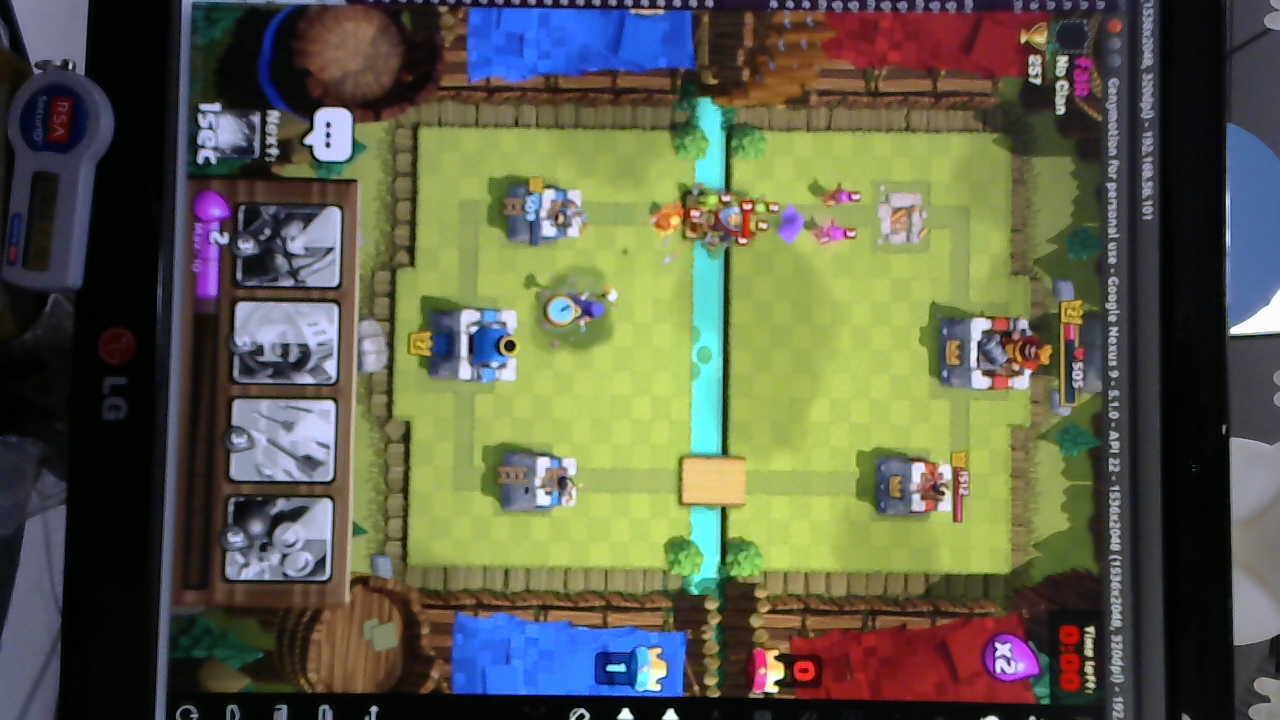archers: (816, 185, 859, 246)
arena: (490, 440, 579, 511), (507, 181, 595, 243)
darena: (871, 185, 930, 254)
earena: (875, 455, 953, 522)
eking: (936, 306, 1043, 393)
king: (427, 298, 524, 388)
knight: (698, 197, 743, 250)
speargoblin: (650, 196, 688, 239)
speargoblins: (733, 196, 771, 249)
witch: (563, 282, 625, 326)
